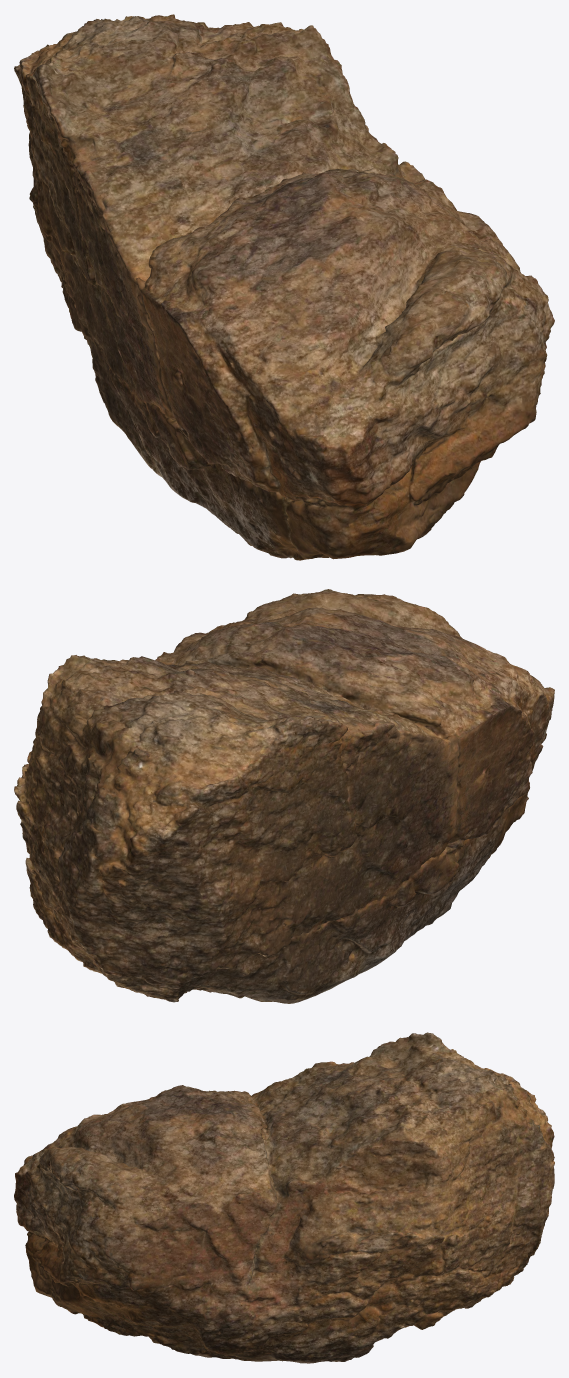
The model's file is boulder_huge.glb.
3 renders of one model, top to bottom at view 1: azimuth 30°, elevation 25°; view 2: azimuth 150°, elevation 25°; view 3: azimuth 270°, elevation 25°, orthographic. The views are drawn at different scales.
Visible parts, largest first — view 1: namaqualand_boulder_06; view 2: namaqualand_boulder_06; view 3: namaqualand_boulder_06.
Part boxes in pixels (box(x1,y1,x2,y2)): namaqualand_boulder_06: box(14, 14, 554, 560); namaqualand_boulder_06: box(14, 589, 554, 1003); namaqualand_boulder_06: box(14, 1032, 554, 1363).
Bounding box in the file's own units: 0.675 × 0.6516 × 1.21.
Materials: 1 (1 with a texture image).
